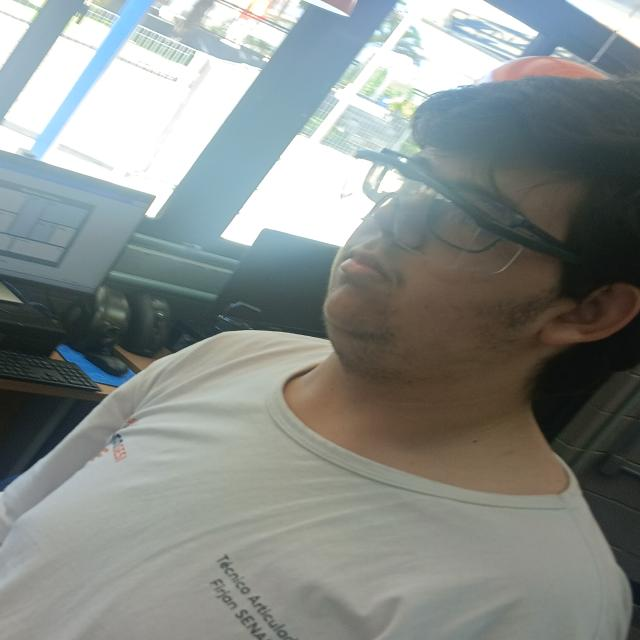oculos-epi: (341, 151, 583, 274)
